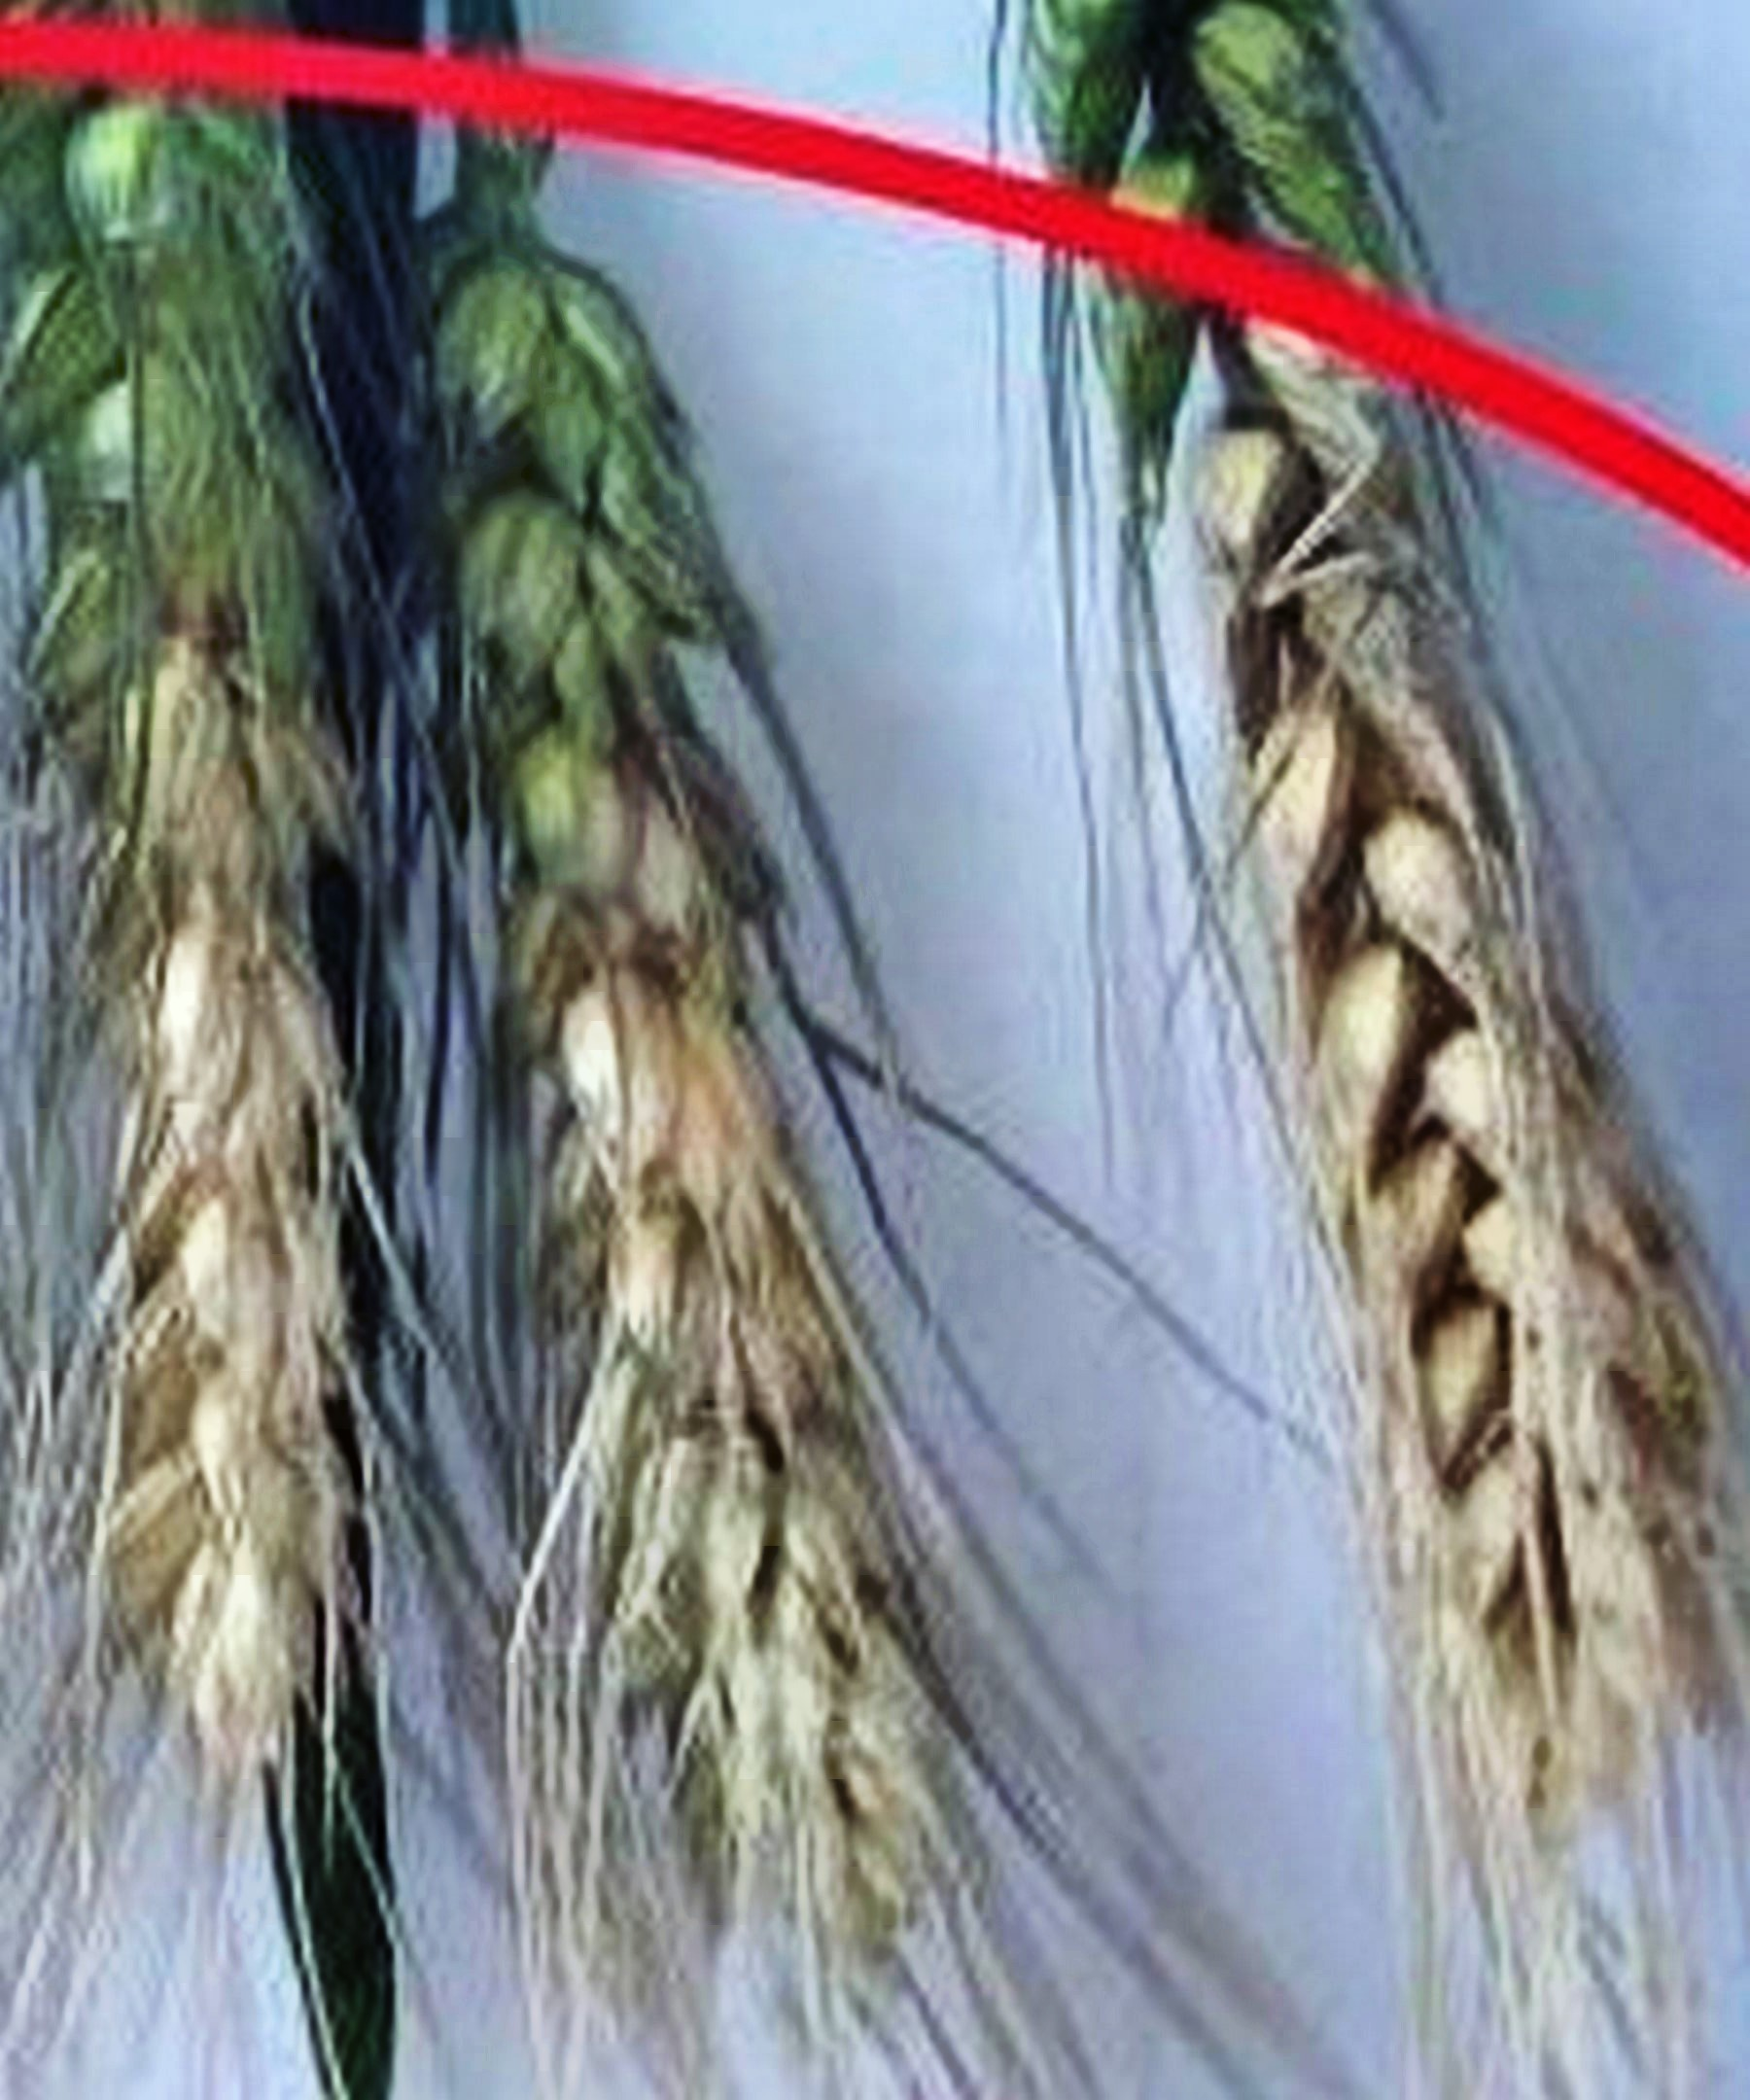Wheat scab: (422, 202, 1000, 1919), (30, 80, 380, 1807)
